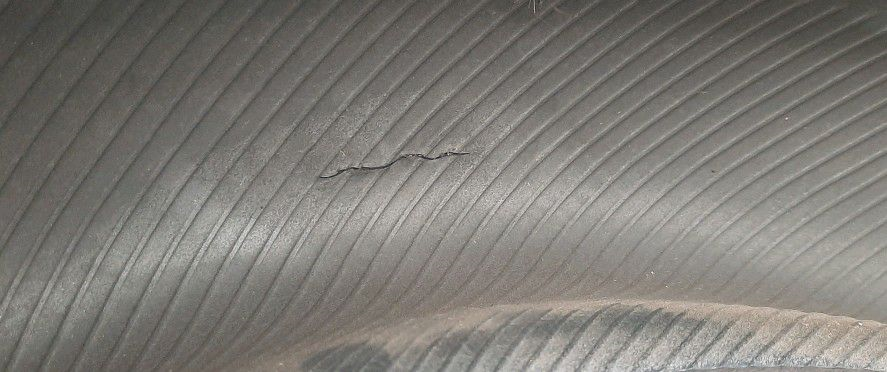CBU: (305, 136, 486, 203)
